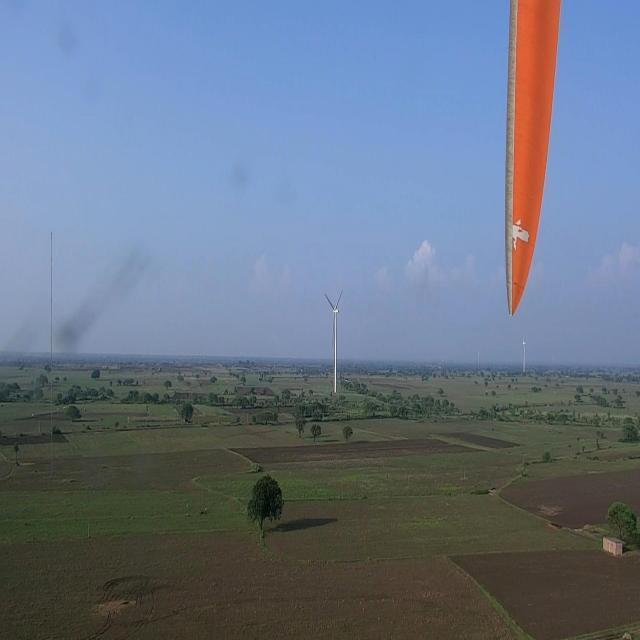PU-tape: (512, 217, 530, 252)
